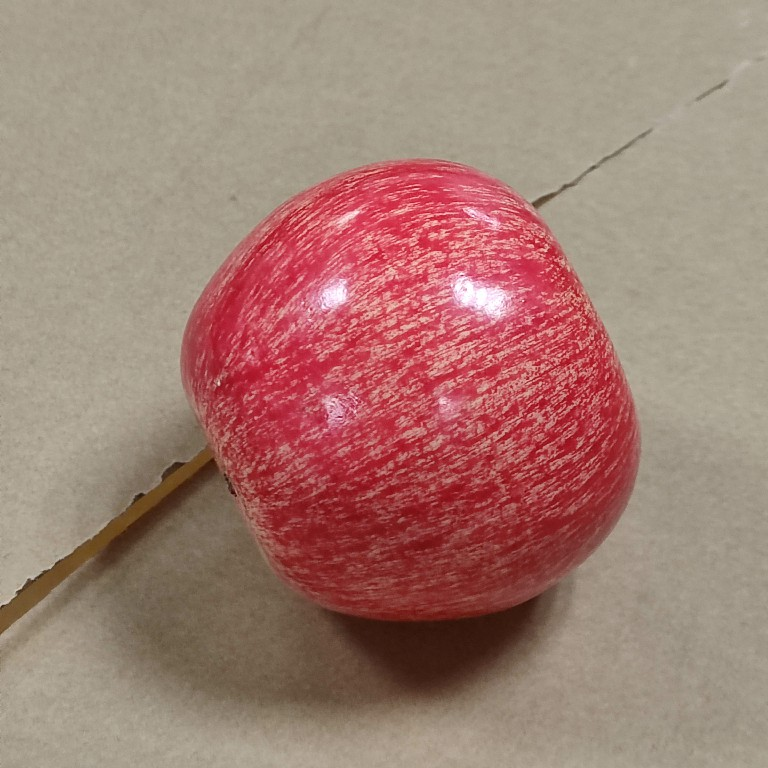fruit_apple: (175, 153, 645, 628)
